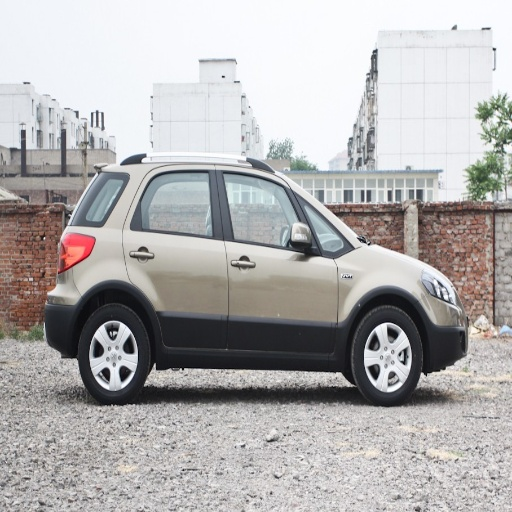back_right_door: (123, 166, 226, 349)
front_right_door: (219, 166, 350, 354)
